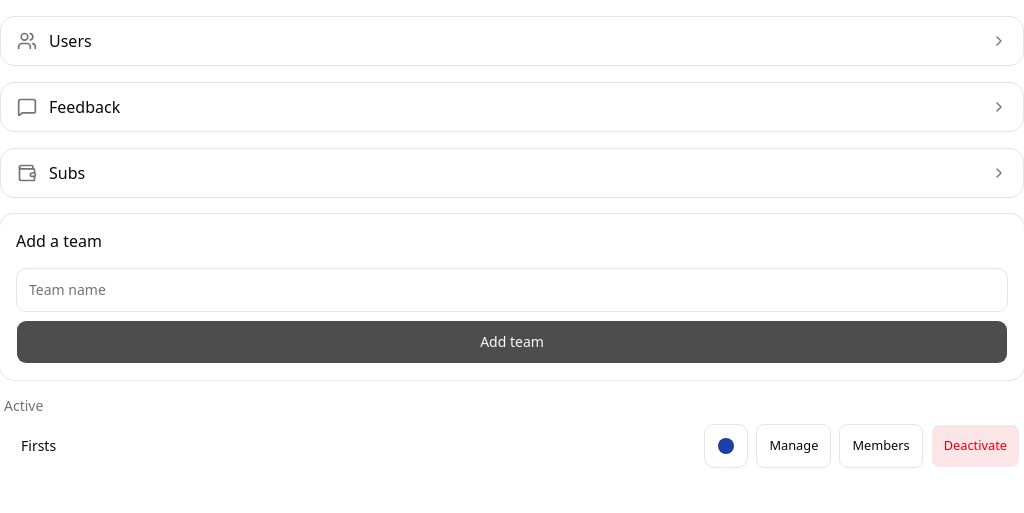
it: create form (AC4) › rejects a blank name inline before any request (AC3)
What coordinates should you click on to do the following:
click the button "Add team"
I would click on:
 (512, 342)
Its box is [16,320,1008,364].
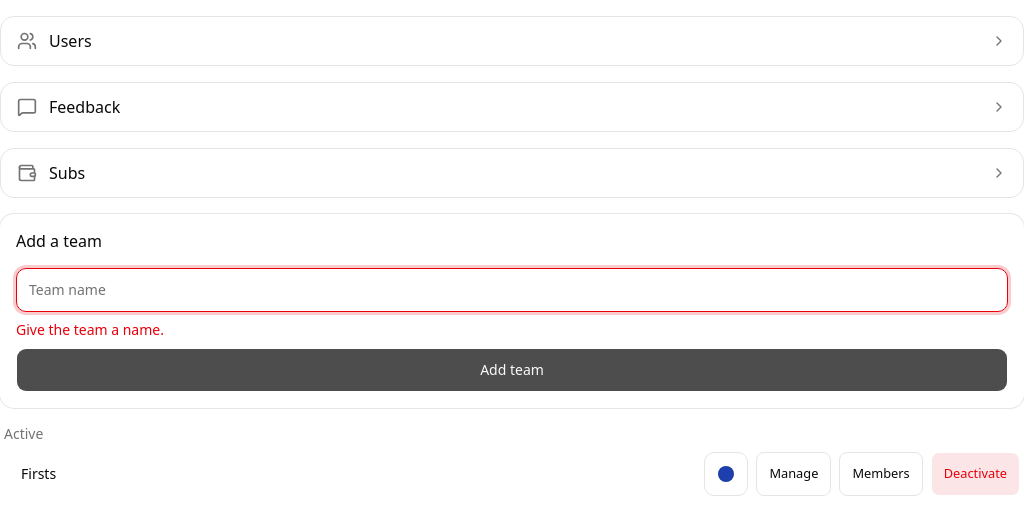
Expected: the text "Give the team a name." is shown, [16,320,164,339]
